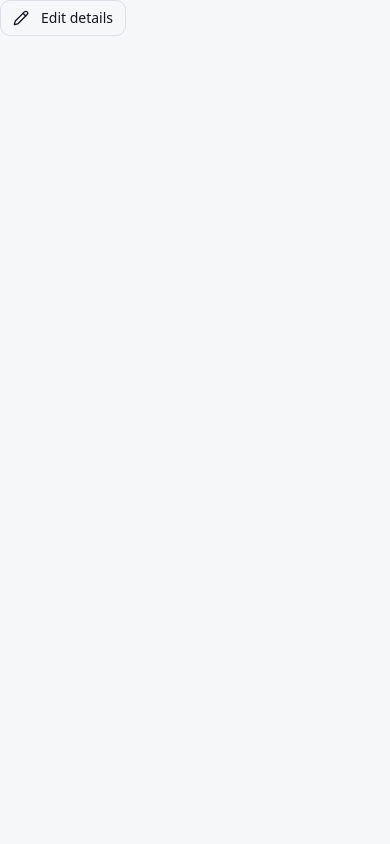
Test: editing team contact details › keeps a doctor as "Dr." plus first name while the full name stays editable
The image size is (390, 844).
Later steps or results of the test are not shown.
Click the button "Edit details". click: (63, 18)
box: top-left (0, 0), bottom-right (126, 36)
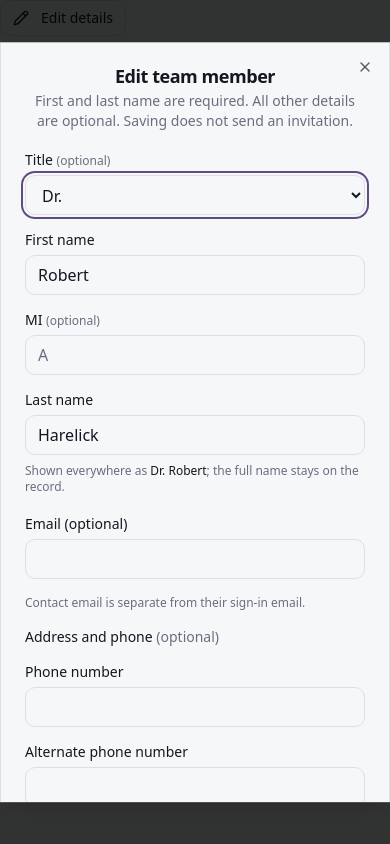
Now the dropdown labelled "Title (optional)" shows "Dr.", box top-left (25, 175), bottom-right (365, 215)
Now the field labelled "First name" holds "Robert", box top-left (25, 255), bottom-right (365, 295)
Now the field labelled "Last name" holds "Harelick", box top-left (25, 415), bottom-right (365, 455)
